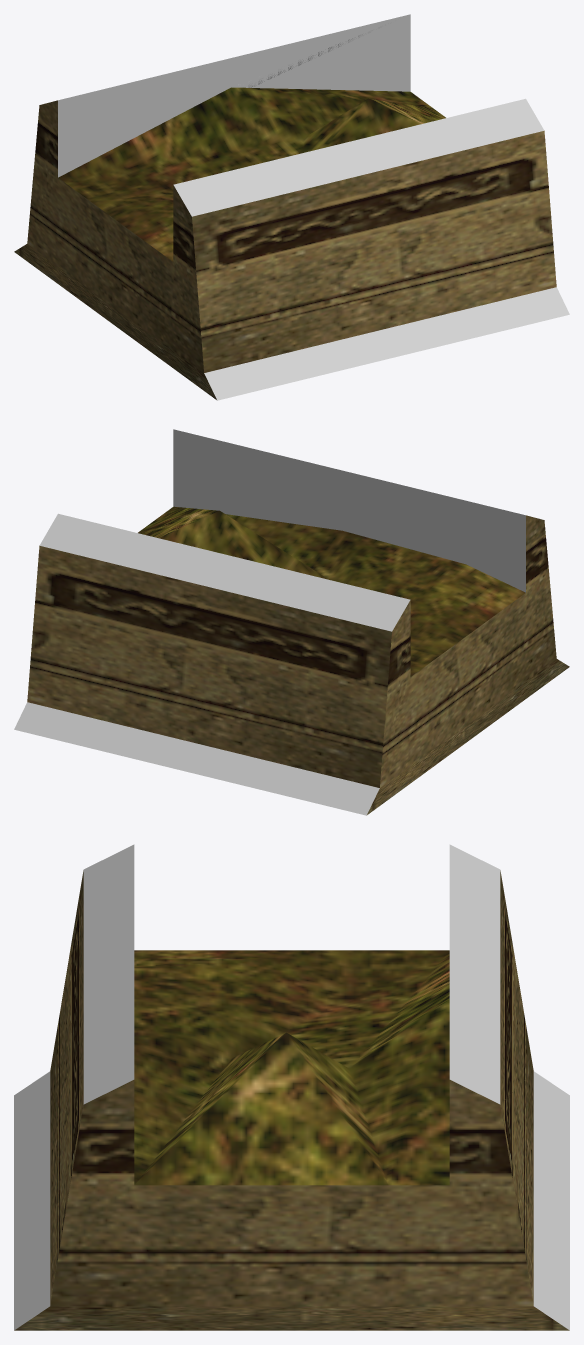
Rendered from gzc_wj_23.fbx.
The picture shows the model from 3 angles, top to bottom: view 1: azimuth 30°, elevation 25°; view 2: azimuth 150°, elevation 25°; view 3: azimuth 270°, elevation 25°; orthographic projection. The views are drawn at different scales.
Parts seen in each view (by area): view 1: gzc_wj_23; view 2: gzc_wj_23; view 3: gzc_wj_23.
Boxes of the visible parts, x1=… form: gzc_wj_23: x1=14, y1=14, x2=569, y2=400; gzc_wj_23: x1=14, y1=429, x2=569, y2=815; gzc_wj_23: x1=14, y1=844, x2=569, y2=1330.
Size of the model in its own units: 508 by 253 by 508.
